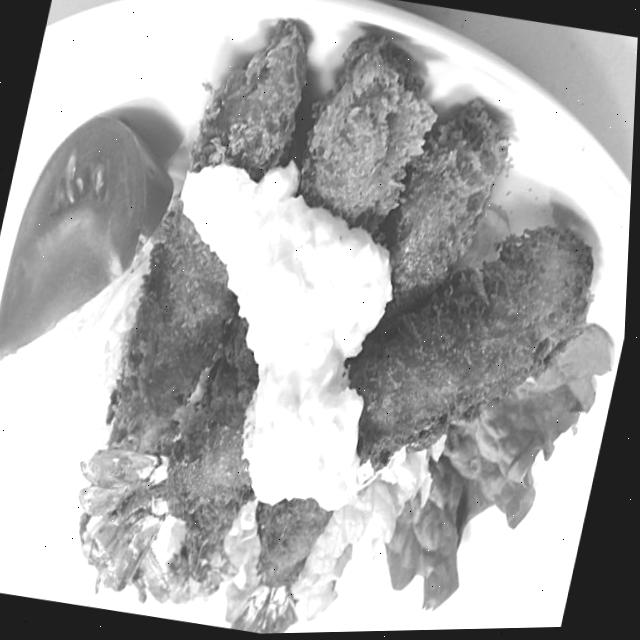炸货点心: (34, 0, 640, 639)
熟制海鲜: (34, 0, 640, 639)
